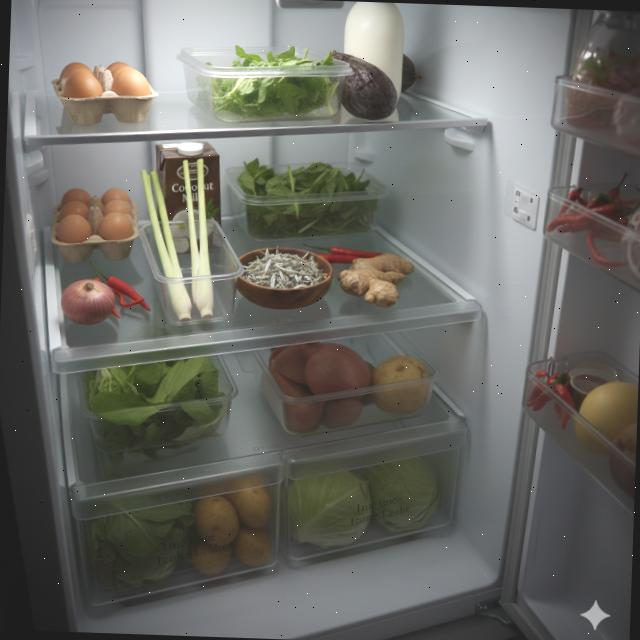anchovies: (241, 245, 329, 290)
cabbage: (285, 466, 372, 549), (368, 455, 442, 535)
chili: (88, 260, 152, 320), (302, 244, 384, 266)
egg: (49, 58, 161, 128), (50, 186, 138, 266)
ginger: (336, 252, 414, 308)
leafy_greens: (80, 352, 228, 456), (237, 156, 380, 242), (193, 43, 340, 123), (85, 490, 189, 592)
lemongrass: (134, 156, 218, 322)
onion: (60, 278, 116, 325)
potato: (190, 472, 274, 577), (370, 354, 430, 415)
